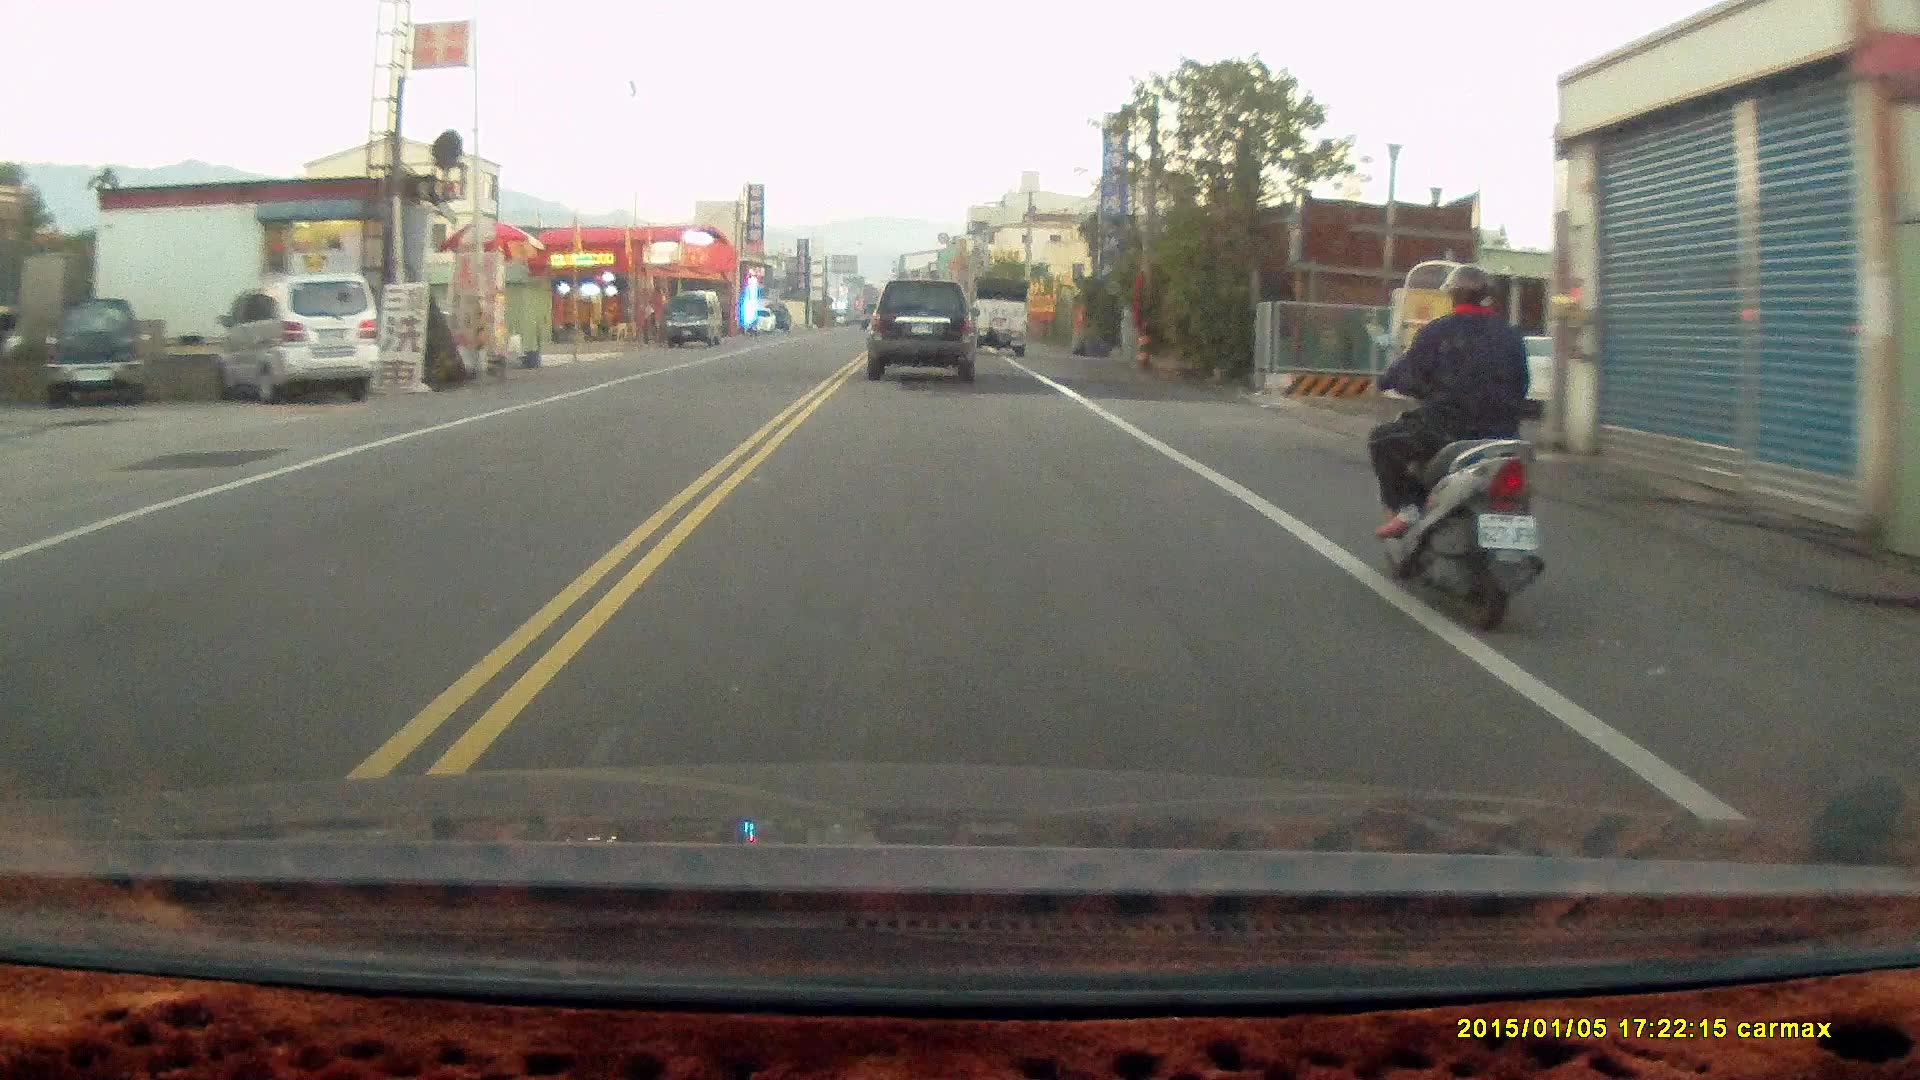rider: (1363, 258, 1543, 633)
vehicle: (215, 273, 380, 409), (867, 277, 983, 388), (44, 297, 148, 409), (970, 278, 1031, 359), (663, 291, 721, 347)
